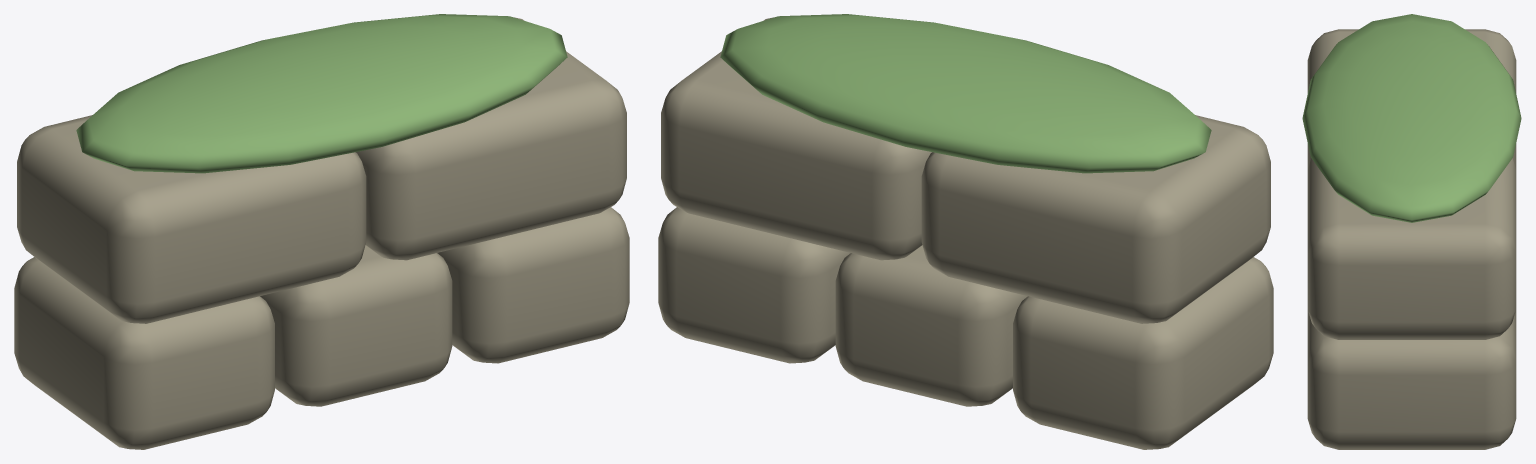
File: wall.glb
The picture shows the model from 3 angles, left to right: view 1: azimuth 30°, elevation 25°; view 2: azimuth 150°, elevation 25°; view 3: azimuth 270°, elevation 25°; orthographic projection. The views are drawn at different scales.
Visible parts, largest first — view 1: wall; view 2: wall; view 3: wall.
Boxes of the visible parts, <box> form: wall: <box>14,14,629,449</box>; wall: <box>658,14,1273,449</box>; wall: <box>1302,14,1521,449</box>.
Size of the model in its own units: 1 by 0.545 by 0.42.
1 material, 1 textured.
